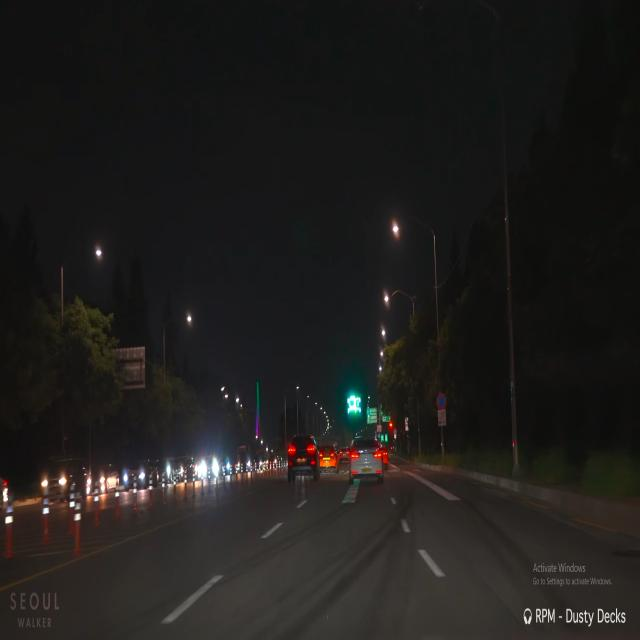headlights: (38, 472, 69, 494), (196, 458, 224, 480), (84, 473, 108, 497), (122, 468, 146, 485)
